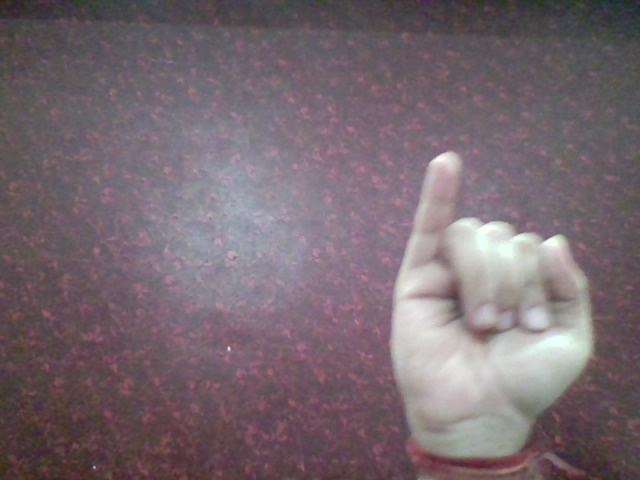i: (375, 143, 604, 431)
